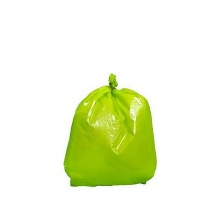plastic_bag: (48, 69, 163, 190)
